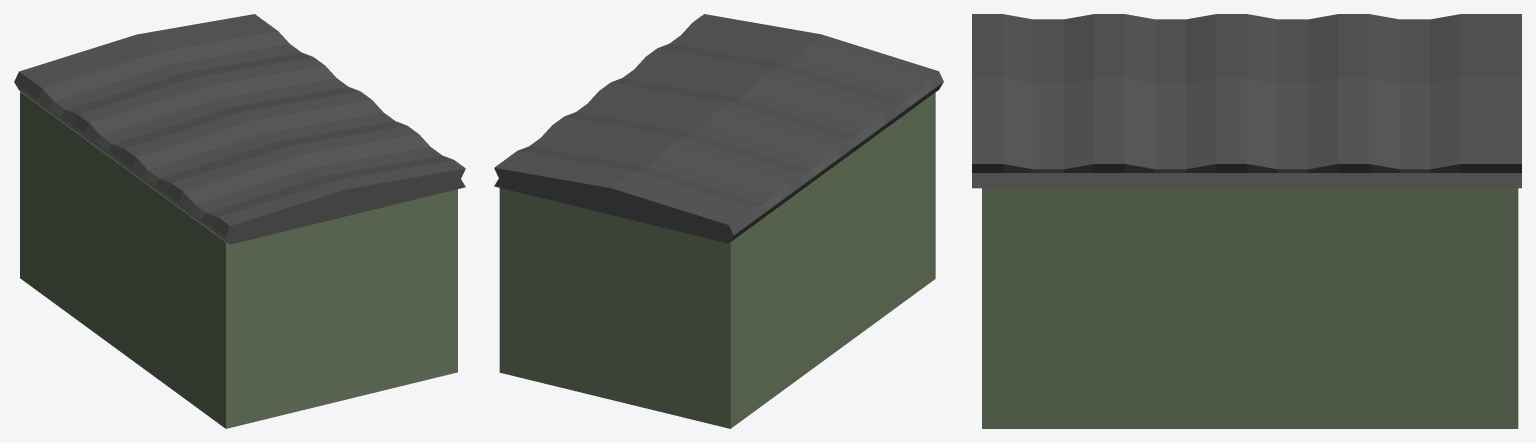
Rendered from Poubelle.fbx.
3 renders of one model, left to right at view 1: azimuth 30°, elevation 25°; view 2: azimuth 150°, elevation 25°; view 3: azimuth 270°, elevation 25°, orthographic. The views are drawn at different scales.
Parts seen in each view (by area): view 1: Cube, Cube.001; view 2: Cube, Cube.001; view 3: Cube, Cube.001.
Boxes of the visible parts, box(x1,y1,x2,y2) form: Cube: box(20, 91, 457, 428); Cube.001: box(14, 14, 465, 244); Cube: box(499, 93, 935, 428); Cube.001: box(494, 14, 943, 243); Cube: box(982, 188, 1518, 428); Cube.001: box(972, 14, 1521, 188).
Bounding box in the file's own units: 135 × 115 × 205.
